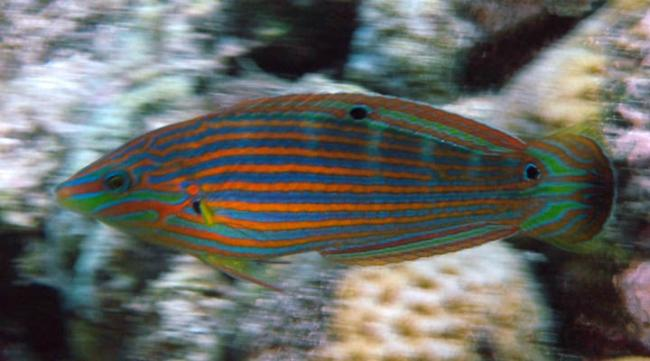fish: (54, 92, 617, 293)
